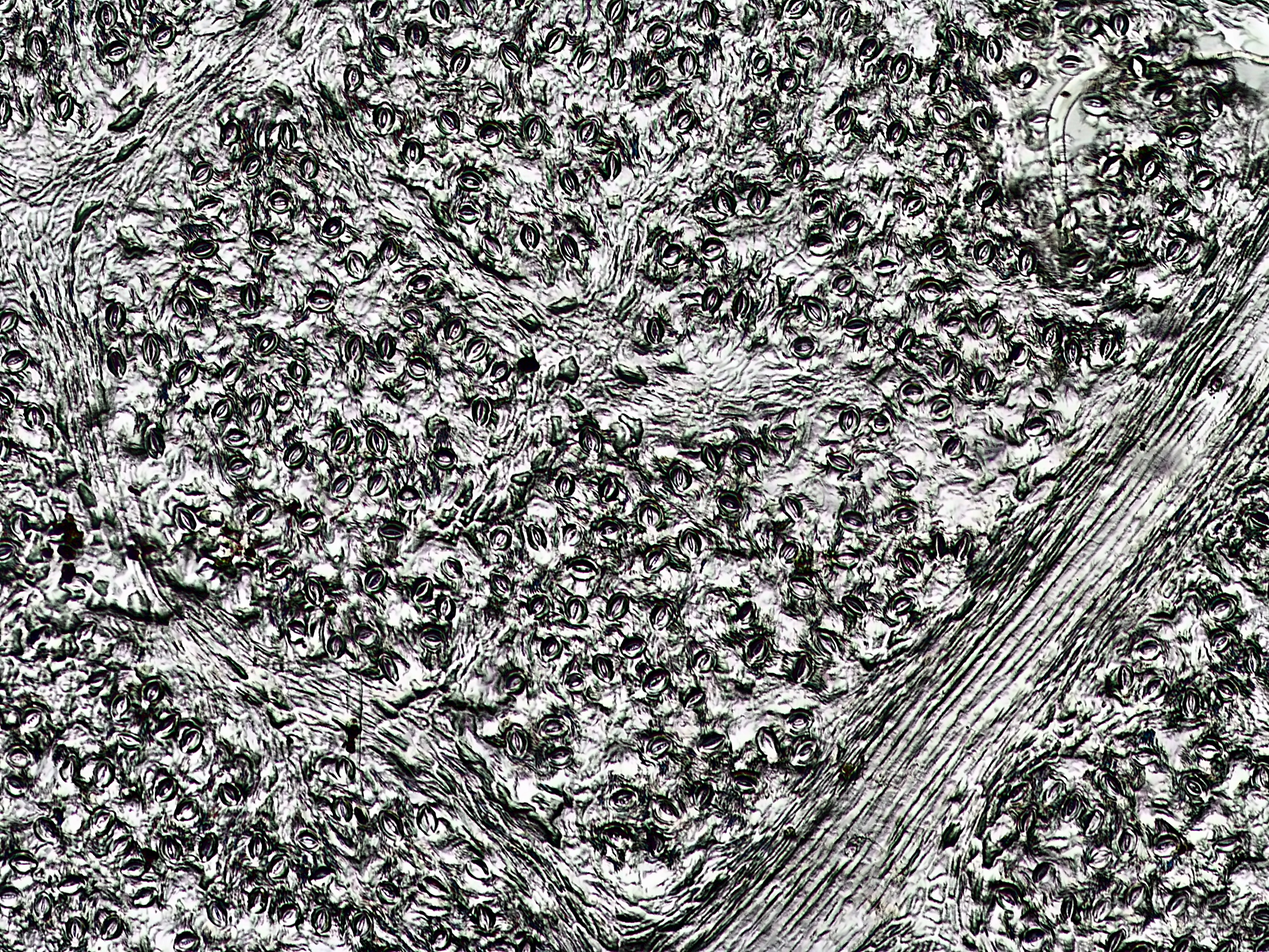stomata: (809, 625, 846, 661), (723, 770, 770, 794), (1166, 121, 1204, 150), (883, 464, 924, 490), (1177, 771, 1210, 803), (375, 650, 405, 684), (600, 0, 640, 25), (1096, 770, 1127, 802), (590, 652, 619, 686), (1079, 93, 1116, 119), (1199, 82, 1225, 119), (895, 547, 926, 578), (377, 809, 406, 842), (979, 33, 1007, 67), (791, 653, 819, 687), (755, 725, 780, 763), (641, 666, 671, 697), (170, 504, 201, 534), (142, 423, 166, 461), (651, 796, 686, 822), (485, 568, 515, 598), (598, 822, 634, 847), (555, 232, 584, 263), (563, 593, 592, 624), (151, 774, 180, 805), (784, 152, 811, 185), (666, 462, 695, 492), (884, 591, 914, 620), (32, 816, 61, 846), (642, 733, 673, 761), (836, 510, 872, 534), (505, 726, 530, 760), (170, 358, 199, 387), (524, 523, 553, 552), (282, 441, 310, 471), (565, 556, 600, 580), (603, 590, 630, 621), (746, 184, 772, 216), (371, 101, 396, 134), (729, 442, 762, 467), (714, 493, 747, 518), (593, 518, 627, 542), (825, 448, 854, 476), (974, 178, 1001, 208), (1149, 82, 1179, 109), (743, 634, 770, 664), (677, 527, 704, 557), (577, 424, 603, 455), (1053, 53, 1088, 76), (418, 625, 450, 650), (1204, 593, 1236, 618), (103, 300, 127, 333), (0, 347, 28, 375), (363, 426, 390, 455), (801, 297, 828, 326), (641, 547, 670, 574), (524, 592, 551, 621), (172, 796, 201, 823), (1016, 244, 1039, 278), (361, 0, 395, 23), (328, 425, 354, 455), (636, 499, 662, 529), (968, 106, 994, 136), (1113, 221, 1143, 247), (243, 501, 273, 527), (442, 314, 467, 345), (193, 194, 224, 219), (1, 773, 32, 798), (349, 911, 374, 942), (1, 745, 36, 767), (978, 308, 1002, 340), (1096, 332, 1120, 364), (785, 575, 817, 599), (1020, 925, 1048, 952), (476, 121, 505, 147), (469, 396, 495, 425), (478, 233, 504, 262), (927, 395, 956, 421), (609, 786, 638, 812), (89, 760, 115, 789), (205, 900, 231, 929), (924, 236, 954, 261), (1095, 155, 1125, 180), (1163, 198, 1193, 223), (836, 405, 861, 435), (1027, 385, 1057, 410), (303, 290, 337, 312), (614, 360, 648, 382), (522, 115, 546, 146), (915, 278, 946, 302), (784, 709, 815, 733), (1011, 19, 1043, 42), (545, 746, 577, 769), (690, 647, 717, 674), (731, 599, 757, 627), (439, 553, 465, 581), (1193, 738, 1226, 760), (238, 282, 263, 311), (899, 192, 928, 217), (781, 493, 806, 522), (647, 600, 672, 629), (691, 780, 715, 810), (889, 52, 912, 83), (344, 248, 367, 279), (654, 242, 685, 265), (415, 803, 438, 834), (841, 317, 873, 339), (222, 455, 254, 477), (58, 754, 80, 786), (115, 731, 147, 753), (498, 41, 524, 68), (462, 335, 488, 362), (710, 189, 736, 216), (1013, 64, 1040, 90), (840, 592, 867, 618), (791, 739, 817, 766), (157, 836, 184, 862), (430, 447, 458, 472), (837, 211, 865, 236), (99, 914, 124, 942), (244, 885, 269, 913), (22, 402, 46, 431), (1211, 678, 1240, 702), (343, 332, 364, 365), (803, 234, 836, 255), (473, 902, 496, 932), (140, 676, 163, 706), (106, 346, 128, 377), (64, 916, 86, 947), (197, 831, 219, 862), (141, 332, 161, 366), (1249, 760, 1269, 794), (263, 854, 289, 880), (309, 906, 334, 933), (266, 188, 294, 212), (646, 21, 674, 45), (171, 930, 203, 951), (418, 875, 450, 896), (1115, 827, 1139, 855), (95, 1, 118, 30), (378, 237, 401, 266), (993, 886, 1022, 909), (695, 0, 717, 30), (374, 332, 396, 362), (869, 256, 902, 276), (540, 715, 570, 737), (8, 851, 38, 873), (376, 521, 407, 542), (1116, 664, 1137, 695), (595, 474, 621, 499), (1137, 154, 1162, 180), (488, 525, 514, 550), (177, 727, 202, 753), (1127, 54, 1151, 81), (1023, 112, 1059, 130), (364, 567, 388, 594), (186, 239, 220, 258), (834, 4, 857, 32), (244, 392, 267, 420), (296, 511, 324, 534), (403, 274, 435, 294), (56, 873, 88, 893), (318, 216, 347, 238), (887, 503, 916, 525), (618, 637, 647, 659), (698, 731, 727, 753), (31, 892, 53, 921), (107, 836, 136, 858), (1150, 834, 1179, 856), (26, 30, 47, 60), (749, 110, 779, 131), (399, 307, 424, 332), (404, 20, 428, 46), (252, 331, 278, 355), (173, 295, 199, 319), (971, 367, 995, 393), (544, 27, 567, 54), (856, 36, 879, 63), (834, 106, 857, 133), (395, 486, 422, 509), (554, 472, 577, 499), (220, 359, 243, 386), (699, 286, 722, 313), (938, 354, 961, 381), (353, 622, 380, 645), (245, 833, 268, 860), (1059, 793, 1082, 820), (1029, 861, 1056, 884), (186, 276, 217, 296), (730, 289, 750, 320), (830, 547, 861, 567), (456, 169, 484, 191), (519, 221, 541, 249), (558, 166, 580, 194), (696, 237, 724, 259), (788, 336, 816, 358), (538, 636, 566, 658), (304, 577, 326, 605), (464, 858, 492, 880), (1002, 780, 1030, 802), (1017, 809, 1039, 837), (1110, 9, 1131, 38), (307, 866, 336, 887), (109, 692, 130, 721), (1241, 645, 1262, 674), (607, 57, 626, 89), (953, 532, 972, 564), (1060, 892, 1079, 924), (248, 230, 278, 250), (701, 442, 721, 472), (602, 149, 622, 179), (830, 272, 854, 297), (1063, 337, 1083, 367), (1078, 15, 1102, 40), (1162, 237, 1186, 262), (899, 381, 924, 405), (940, 435, 964, 460), (560, 524, 585, 548), (284, 618, 308, 643), (218, 781, 242, 806), (784, 0, 814, 20), (437, 108, 460, 134), (930, 102, 953, 128), (806, 197, 832, 220), (434, 594, 457, 620), (331, 796, 354, 822), (476, 82, 503, 104), (943, 146, 965, 173), (411, 576, 433, 603), (292, 828, 319, 850), (757, 521, 776, 552), (676, 48, 697, 76), (1040, 321, 1061, 349), (645, 315, 665, 344), (868, 413, 892, 437), (766, 424, 798, 442), (644, 831, 668, 855), (277, 903, 301, 927), (105, 40, 130, 63), (577, 47, 600, 72), (286, 360, 309, 385), (366, 471, 389, 496), (779, 539, 802, 564), (325, 633, 348, 658), (1090, 897, 1113, 922), (561, 673, 587, 695), (132, 884, 158, 906), (334, 755, 356, 781), (1212, 833, 1242, 852), (373, 35, 400, 56), (886, 119, 907, 146), (403, 359, 430, 380), (974, 238, 995, 265), (344, 64, 364, 92), (1066, 253, 1094, 273), (119, 858, 147, 878), (60, 573, 88, 593), (946, 23, 964, 54), (221, 428, 252, 446), (152, 23, 176, 46), (642, 65, 665, 89), (267, 557, 291, 580), (92, 809, 115, 833), (19, 707, 43, 730), (1210, 631, 1233, 655), (155, 712, 177, 737), (1142, 676, 1164, 701), (401, 137, 422, 163), (779, 68, 800, 94), (220, 119, 240, 146), (146, 294, 165, 322), (1181, 690, 1200, 718), (674, 109, 697, 132), (489, 359, 512, 382), (330, 474, 353, 497), (750, 51, 772, 75), (927, 69, 951, 91), (320, 759, 342, 783), (375, 881, 397, 905), (578, 118, 599, 143), (682, 689, 707, 710), (1166, 891, 1187, 916), (1021, 417, 1050, 435), (1102, 263, 1128, 283), (10, 513, 29, 540), (428, 926, 450, 949), (210, 399, 231, 423), (1192, 169, 1216, 190), (1101, 929, 1125, 950), (1084, 811, 1104, 836), (451, 49, 470, 75), (929, 532, 946, 561), (272, 390, 294, 412), (24, 928, 45, 951), (1043, 780, 1064, 803), (1246, 509, 1269, 530), (243, 154, 263, 178), (298, 154, 318, 178), (941, 315, 965, 335), (897, 328, 916, 353), (455, 205, 481, 223), (796, 37, 818, 58), (429, 0, 449, 23), (1010, 343, 1030, 366), (1088, 847, 1111, 867), (1205, 890, 1229, 909), (1127, 884, 1145, 909), (278, 120, 295, 146), (344, 359, 361, 385), (1135, 641, 1161, 658), (191, 161, 212, 182), (74, 620, 95, 641), (981, 413, 1001, 435), (503, 673, 525, 693), (56, 93, 72, 119), (0, 309, 16, 335), (1131, 748, 1156, 764), (0, 889, 22, 906), (399, 582, 413, 606), (0, 387, 15, 409), (43, 935, 62, 952), (0, 540, 13, 564)
